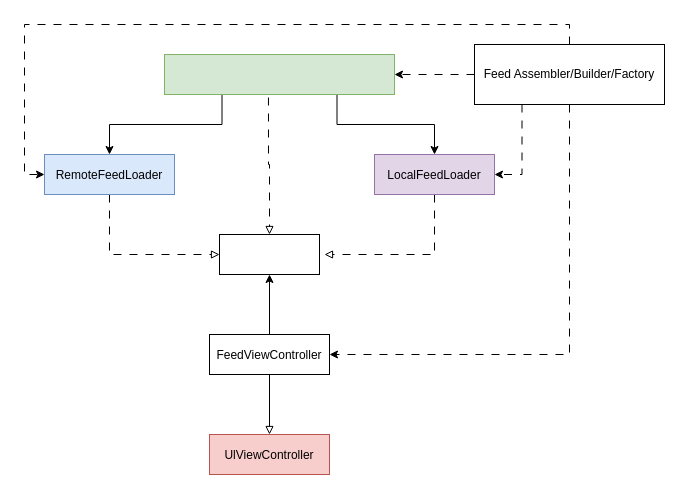
This 682x492 diagram has some shape labels left out. The centre of each missing label's shape, as x and y in pixels:
"<FeedLoader>" goes at point (269, 254).
"RemoteWithLocalFallbackFeedLoader" goes at point (279, 74).
